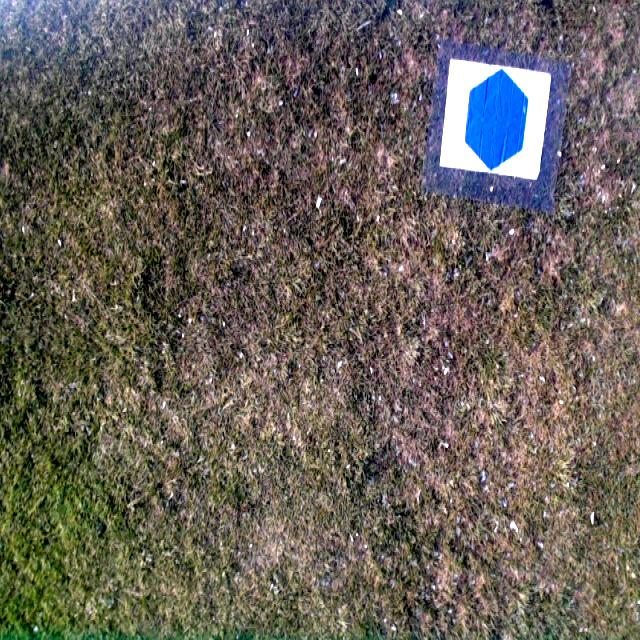blue_hexagon: (466, 68, 526, 172)
